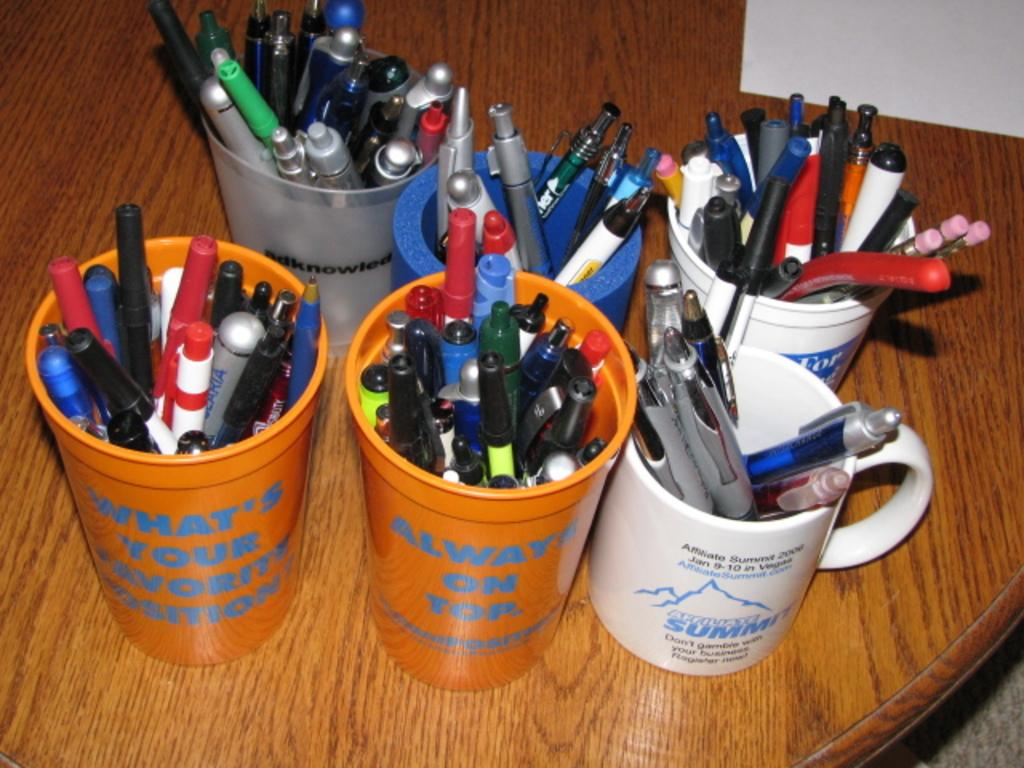pen: (638, 253, 918, 536), (365, 206, 626, 499), (43, 200, 320, 469), (656, 83, 990, 306), (138, 0, 454, 205), (429, 96, 648, 299)
